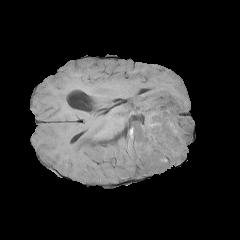glioma: (58, 79, 193, 178)
